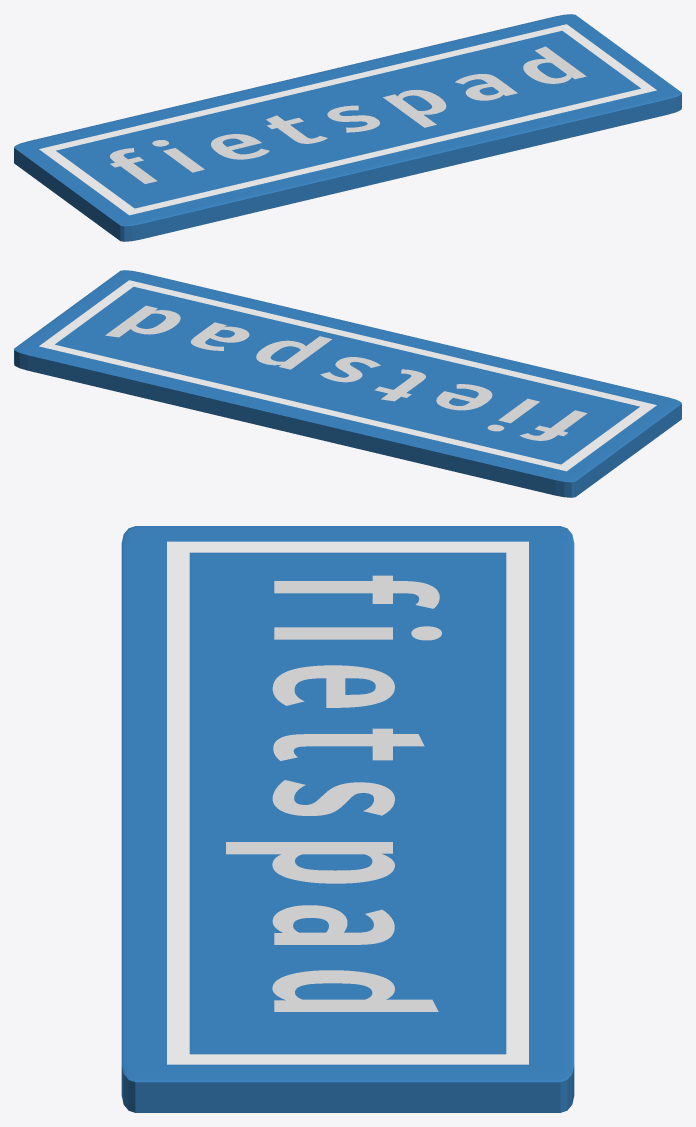
File: fietspad.fbx
3 renders of one model, top to bottom at view 1: azimuth 30°, elevation 25°; view 2: azimuth 150°, elevation 25°; view 3: azimuth 270°, elevation 25°, orthographic. The views are drawn at different scales.
Parts seen in each view (by area): view 1: blue sign.001, fietspad text.001; view 2: blue sign.001, fietspad text.001; view 3: blue sign.001, fietspad text.001.
Boxes of the visible parts, <box> form: blue sign.001: <box>14,14,681,241</box>; fietspad text.001: <box>110,46,586,183</box>; blue sign.001: <box>14,270,681,497</box>; fietspad text.001: <box>105,305,587,440</box>; blue sign.001: <box>121,526,574,1112</box>; fietspad text.001: <box>226,575,441,1011</box>.
Size of the model in its own units: 602 by 21.85 by 210.
